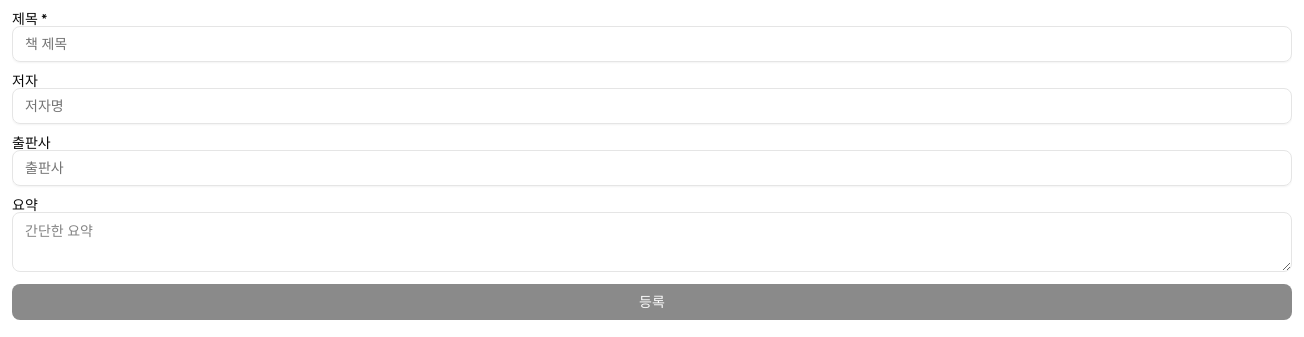
Test: ManualInputForm › submit button is enabled when title has value
The image size is (1304, 337).
Type "테스트 책" into the field labelled "제목 *".
click(652, 44); type("테스트 책")  # box [12,26,1292,62]
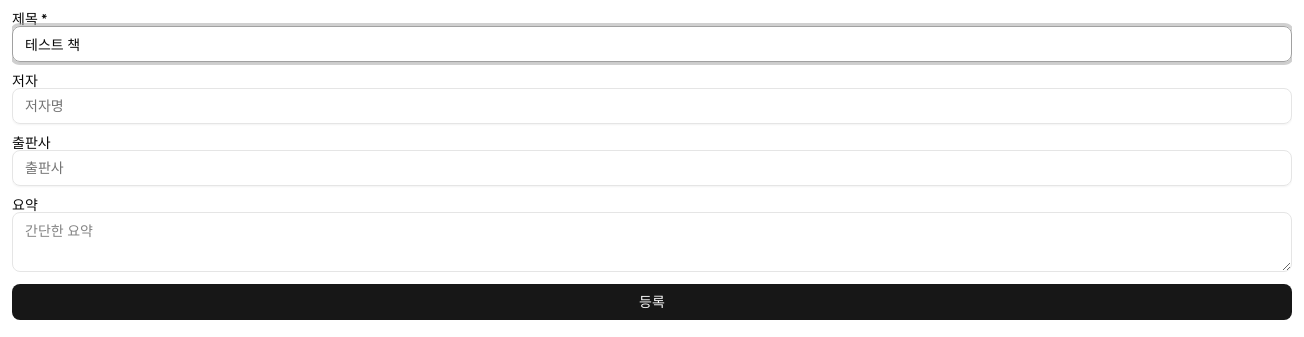
Now the button "등록" is enabled, box [12,284,1292,320]
